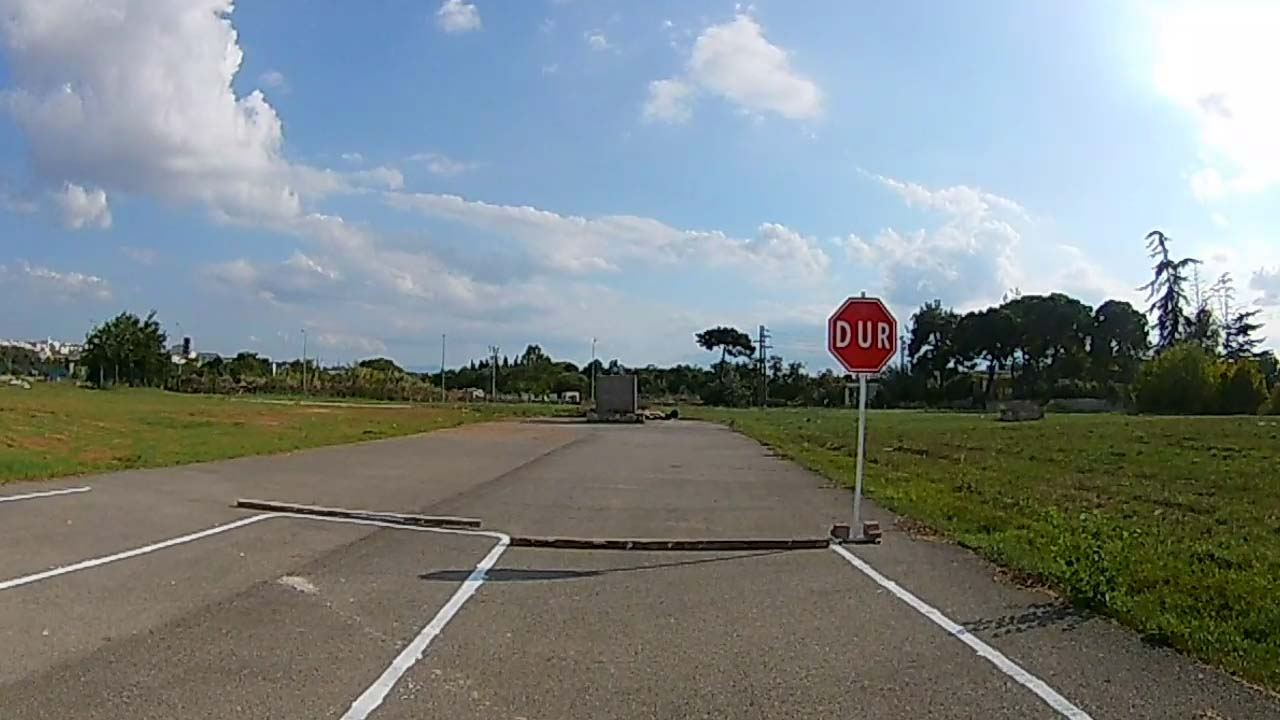arac_dur_isareti: (776, 232, 947, 584)
